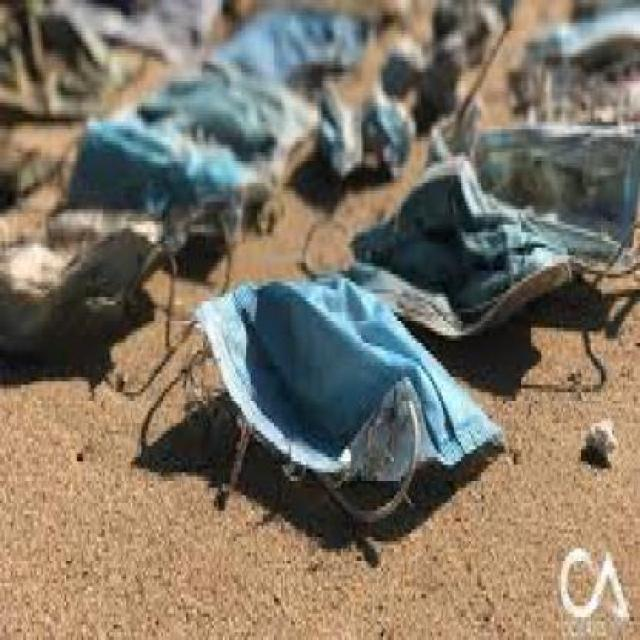B3: (160, 244, 509, 548), (328, 148, 637, 347)
